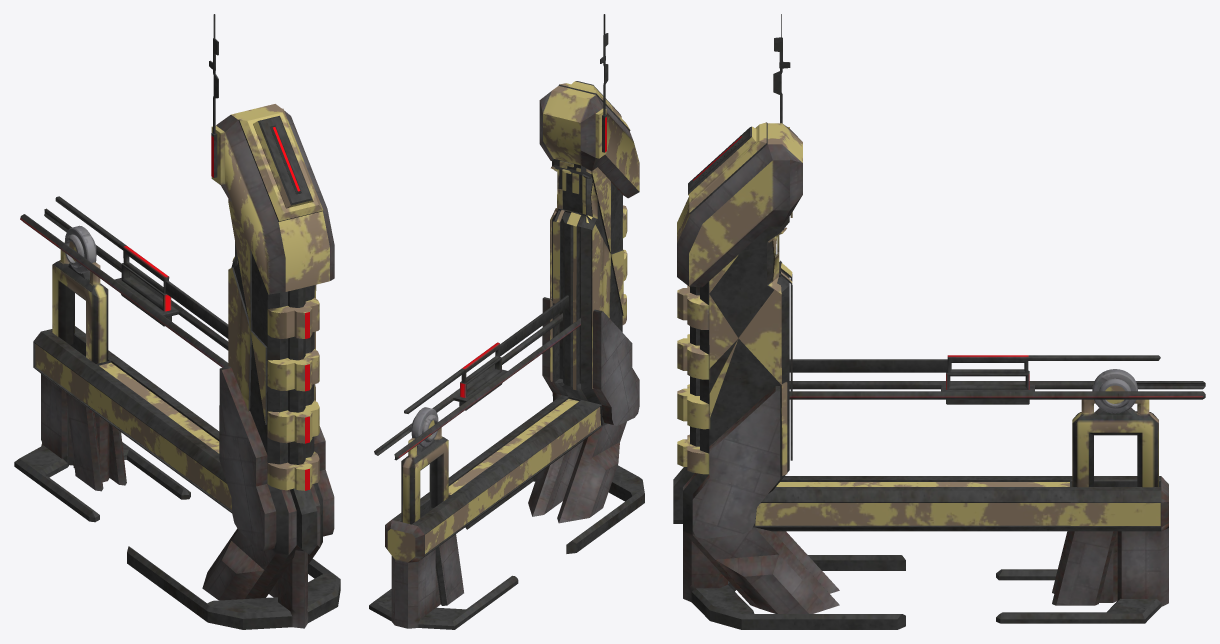
The model's file is OilExtractor.glb.
The picture shows the model from 3 angles, left to right: view 1: azimuth 30°, elevation 25°; view 2: azimuth 150°, elevation 25°; view 3: azimuth 270°, elevation 25°; orthographic projection. The views are drawn at different scales.
Visible parts, largest first — view 1: Cube.100_Baked, Cube.102_Baked; view 2: Cube.100_Baked, Cube.102_Baked; view 3: Cube.100_Baked, Cube.102_Baked.
Boxes of the visible parts, x1,y1,x2,y2 form: Cube.100_Baked: [14, 14, 340, 629]; Cube.102_Baked: [20, 196, 228, 367]; Cube.100_Baked: [369, 14, 644, 629]; Cube.102_Baked: [374, 295, 580, 524]; Cube.100_Baked: [673, 14, 1168, 629]; Cube.102_Baked: [789, 355, 1205, 487].
Size of the model in its own units: 3.3 by 13.97 by 11.89.
2 materials, 2 textured.
